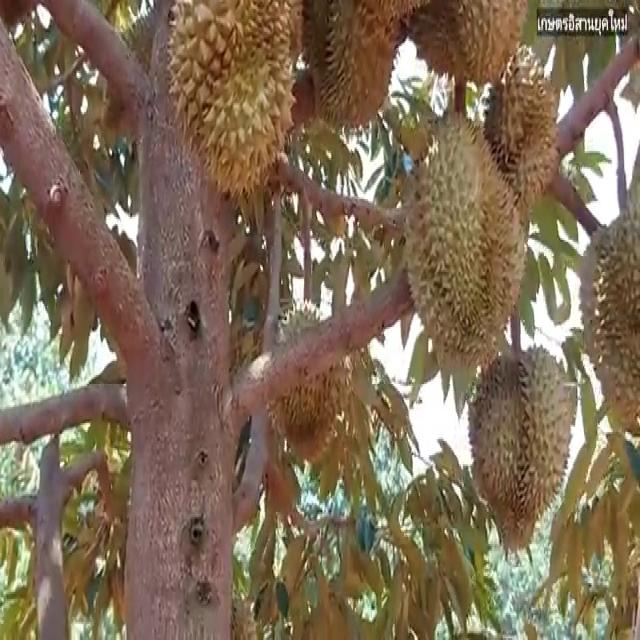durian: (387, 102, 531, 372), (161, 2, 305, 210), (465, 329, 576, 535), (474, 38, 563, 220), (295, 1, 410, 139), (261, 297, 349, 475), (574, 200, 639, 437), (409, 0, 529, 93)
